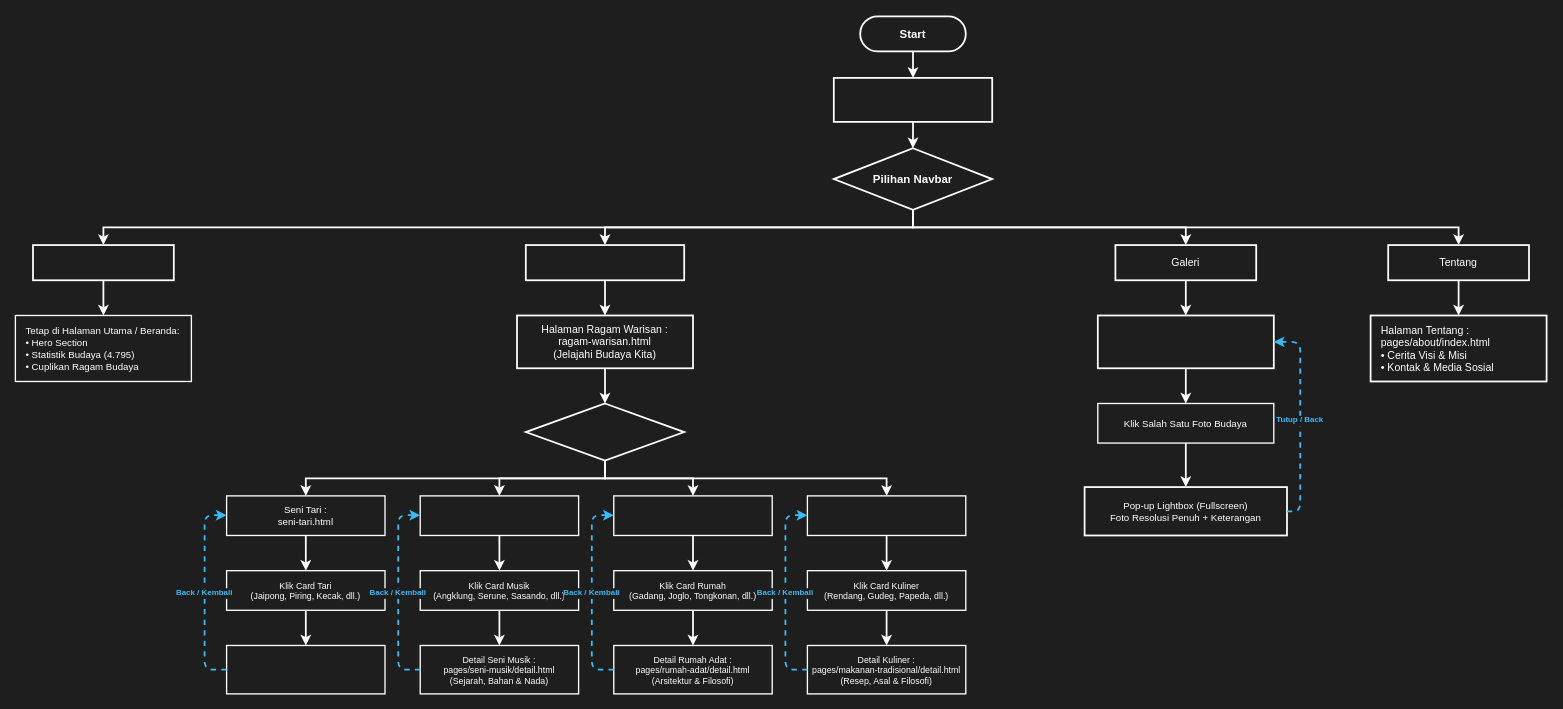
The diagram is 1563 pixels wide and 709 high, and some of its shapes have lost their labels. Each missing label, with the box of its shape:
Beranda: (32, 244, 174, 281)
Detail Seni Tari : pages/seni-tari/detail.html (Sejarah, Filosofi & Foto): (226, 644, 385, 694)
Halaman Galeri : pages/galeri/index.html (Koleksi Foto Budaya): (1096, 314, 1274, 369)
Halaman Utama : index.html: (832, 77, 993, 122)
Kuliner Utama : makanan-tradisional.html: (806, 495, 966, 536)
Pilihan Kategori Budaya:: (524, 402, 685, 461)
Ragam Warisan: (524, 244, 685, 281)
Rumah Adat : rumah-adat.html: (613, 495, 772, 536)
Seni Musik : seni-musik.html: (419, 495, 579, 536)
